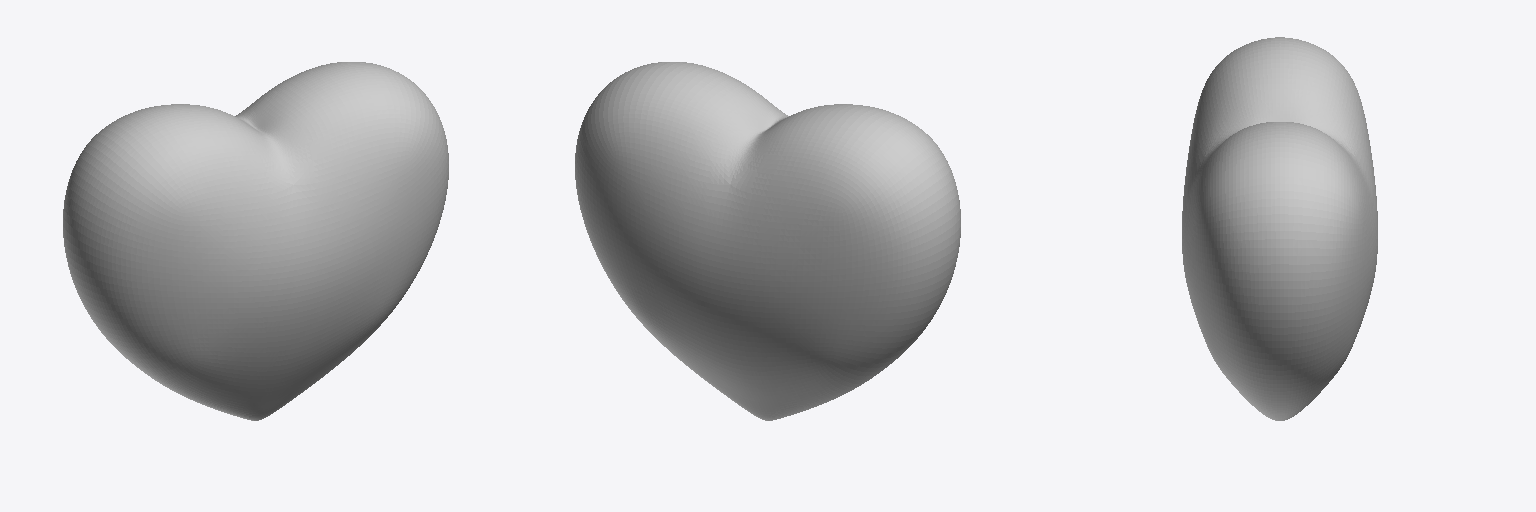
File: love_heart2.obj
3 views of the same model, side by side, from view 1: azimuth 30°, elevation 25°; view 2: azimuth 150°, elevation 25°; view 3: azimuth 270°, elevation 25° (orthographic).
Parts seen in each view (by area): view 1: Vert; view 2: Vert; view 3: Vert.
Boxes of the visible parts, x1=… form: Vert: x1=63, y1=62, x2=448, y2=420; Vert: x1=575, y1=62, x2=960, y2=420; Vert: x1=1182, y1=37, x2=1377, y2=420.
Size of the model in its own units: 1.07 by 0.9167 by 0.4972.